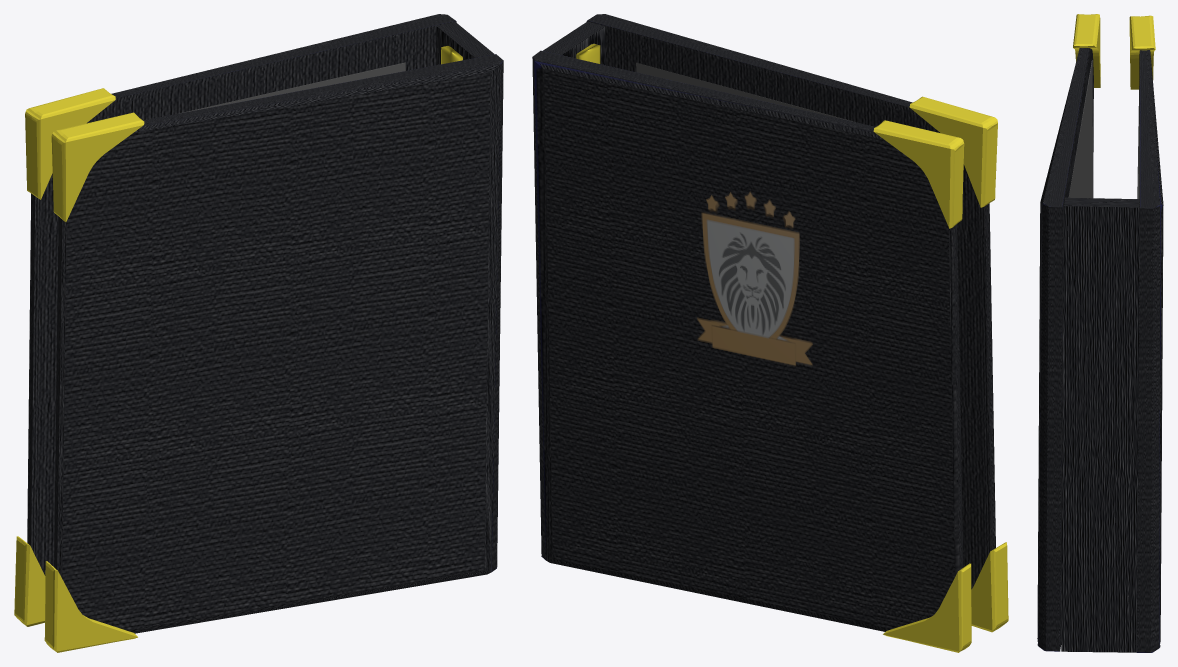
The model's file is Binder.fbx.
3 views of the same model, side by side, from view 1: azimuth 30°, elevation 25°; view 2: azimuth 150°, elevation 25°; view 3: azimuth 270°, elevation 25° (orthographic). The views are drawn at different scales.
Visible parts, largest first — view 1: Binder.003, Binder.001, GoldenCorner.002, GoldenCorner.001, GoldenCorner, GoldenCorner.003, BinderConnector, BinderPocket.003; view 2: Binder.001, Binder.003, GoldenCorner.001, GoldenCorner.002, GoldenCorner.003, GoldenCorner, BinderConnector, BinderPocket.004; view 3: BinderConnector, Binder.003, Binder.001, BinderPocket.004, GoldenCorner.001, GoldenCorner.002, BinderPocket.003.
Boxes of the visible parts, x1,y1,x2,y2 form: Binder.003: [54, 54, 503, 633]; Binder.001: [27, 14, 456, 575]; GoldenCorner.002: [51, 112, 144, 221]; GoldenCorner.001: [25, 88, 115, 199]; GoldenCorner: [44, 561, 137, 652]; GoldenCorner.003: [14, 536, 45, 626]; BinderConnector: [436, 22, 493, 65]; BinderPocket.003: [179, 62, 405, 113]; Binder.001: [532, 50, 963, 631]; Binder.003: [586, 14, 995, 589]; GoldenCorner.001: [873, 120, 964, 228]; GoldenCorner.002: [909, 96, 997, 207]; GoldenCorner.003: [883, 563, 971, 652]; GoldenCorner: [971, 542, 1008, 632]; BinderConnector: [543, 21, 605, 65]; BinderPocket.004: [636, 62, 852, 121]; BinderConnector: [1061, 197, 1139, 652]; Binder.003: [1037, 48, 1093, 651]; Binder.001: [1136, 50, 1163, 652]; BinderPocket.004: [1068, 60, 1092, 198]; GoldenCorner.001: [1129, 15, 1155, 89]; GoldenCorner.002: [1073, 14, 1100, 87]; BinderPocket.003: [1137, 86, 1139, 198].
Bounding box in the file's own units: 787 × 889 × 220.
6 materials, 3 textured.
